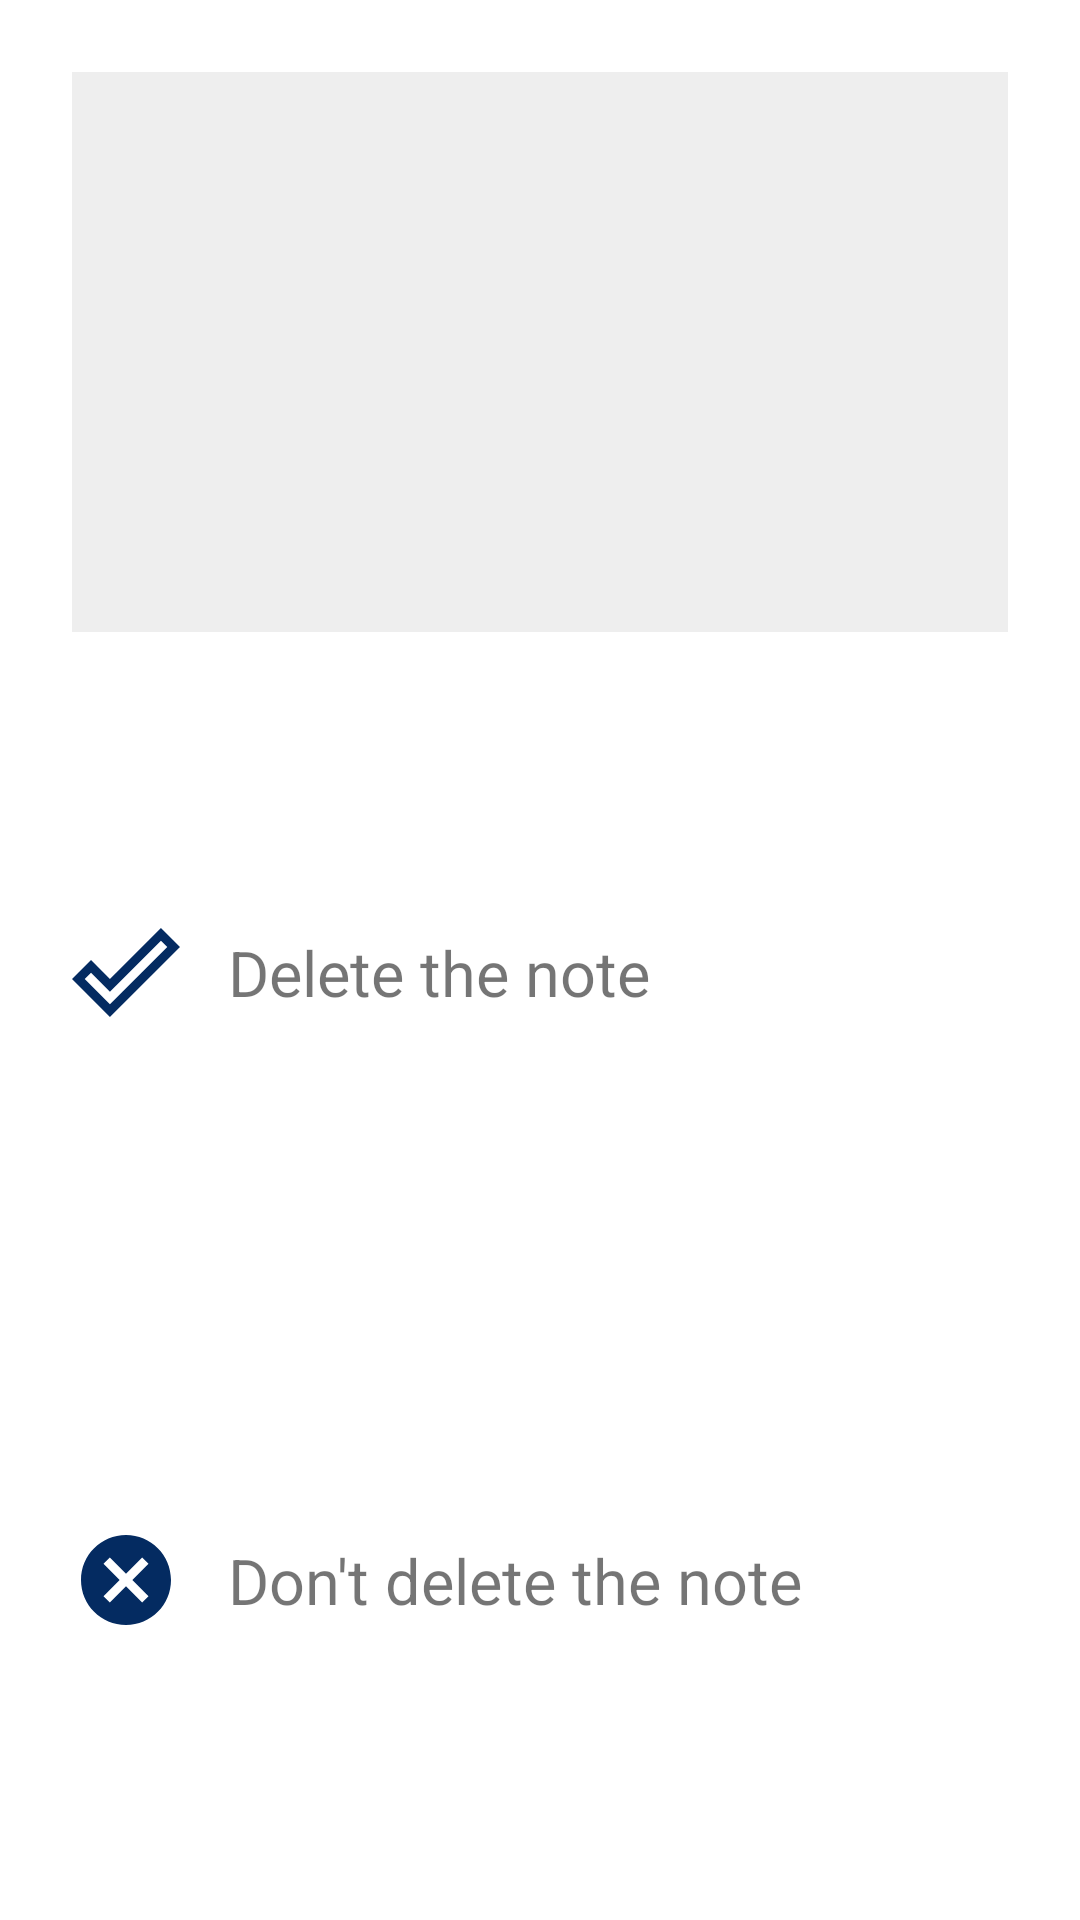

Where icons sit on this 1080 × 1920 app screen, as [x1, y1, x2, y2]:
cancel: [81, 1535, 171, 1625]
done: [72, 928, 180, 1017]
